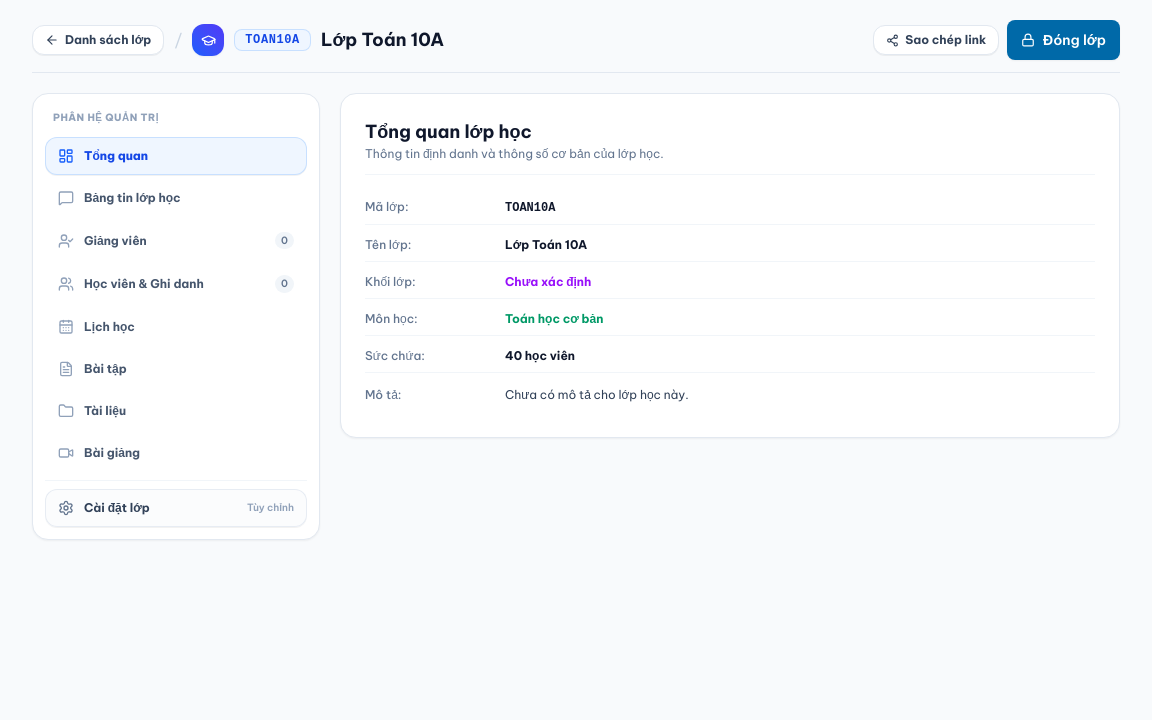
Test: ManagerClassWorkspace visibility controls › hiển thị tài liệu đã ẩn với nhãn Đã ẩn và khóa nút Xem trước, Tải xuống với quản lý
Click the button "Tài liệu": x=105, y=410 x1=45 y1=392 x2=307 y2=430
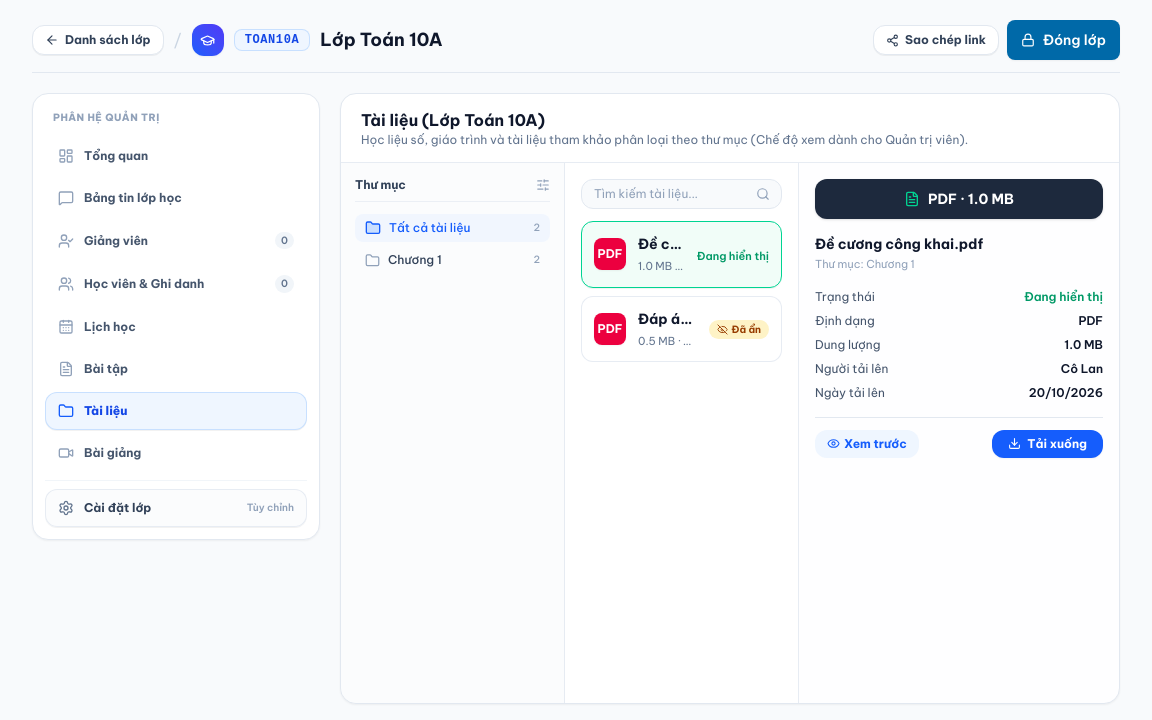
Expected: the text "Đề cương công khai.pdf" is shown, x1=638 y1=234 x2=685 y2=254
Expected: the text "Đáp án đang ẩn.pdf" is shown
Expected: the button "Xem trước" is enabled, x1=815 y1=430 x2=919 y2=458
Chọn tài liệu đang ẩn: hiện thông báo và khóa toàn bộ nút xem/tải.
Click the text "Đáp án đang ẩn.pdf": x=667, y=318 x1=638 y1=308 x2=697 y2=328
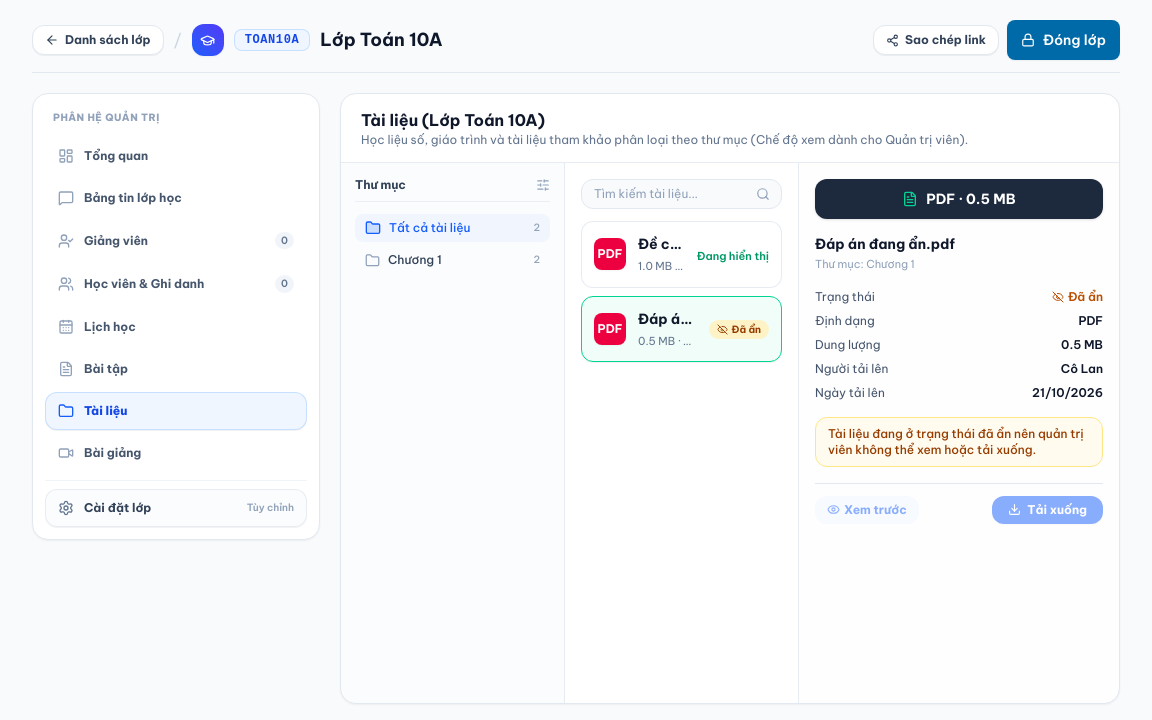
Expected: the text "Tài liệu đang ở trạng thái đã ẩn nên quản trị viên không thể xem hoặc tải xuống." is shown, x1=815 y1=417 x2=1103 y2=467
Expected: the button "Xem trước" is disabled, x1=815 y1=496 x2=919 y2=524
Expected: the button "Tải xuống" is disabled, x1=992 y1=496 x2=1103 y2=524
